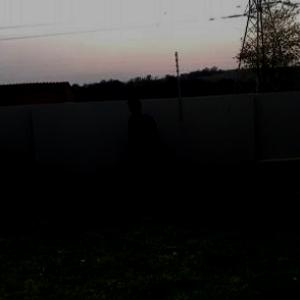follow: (129, 95, 161, 204)
